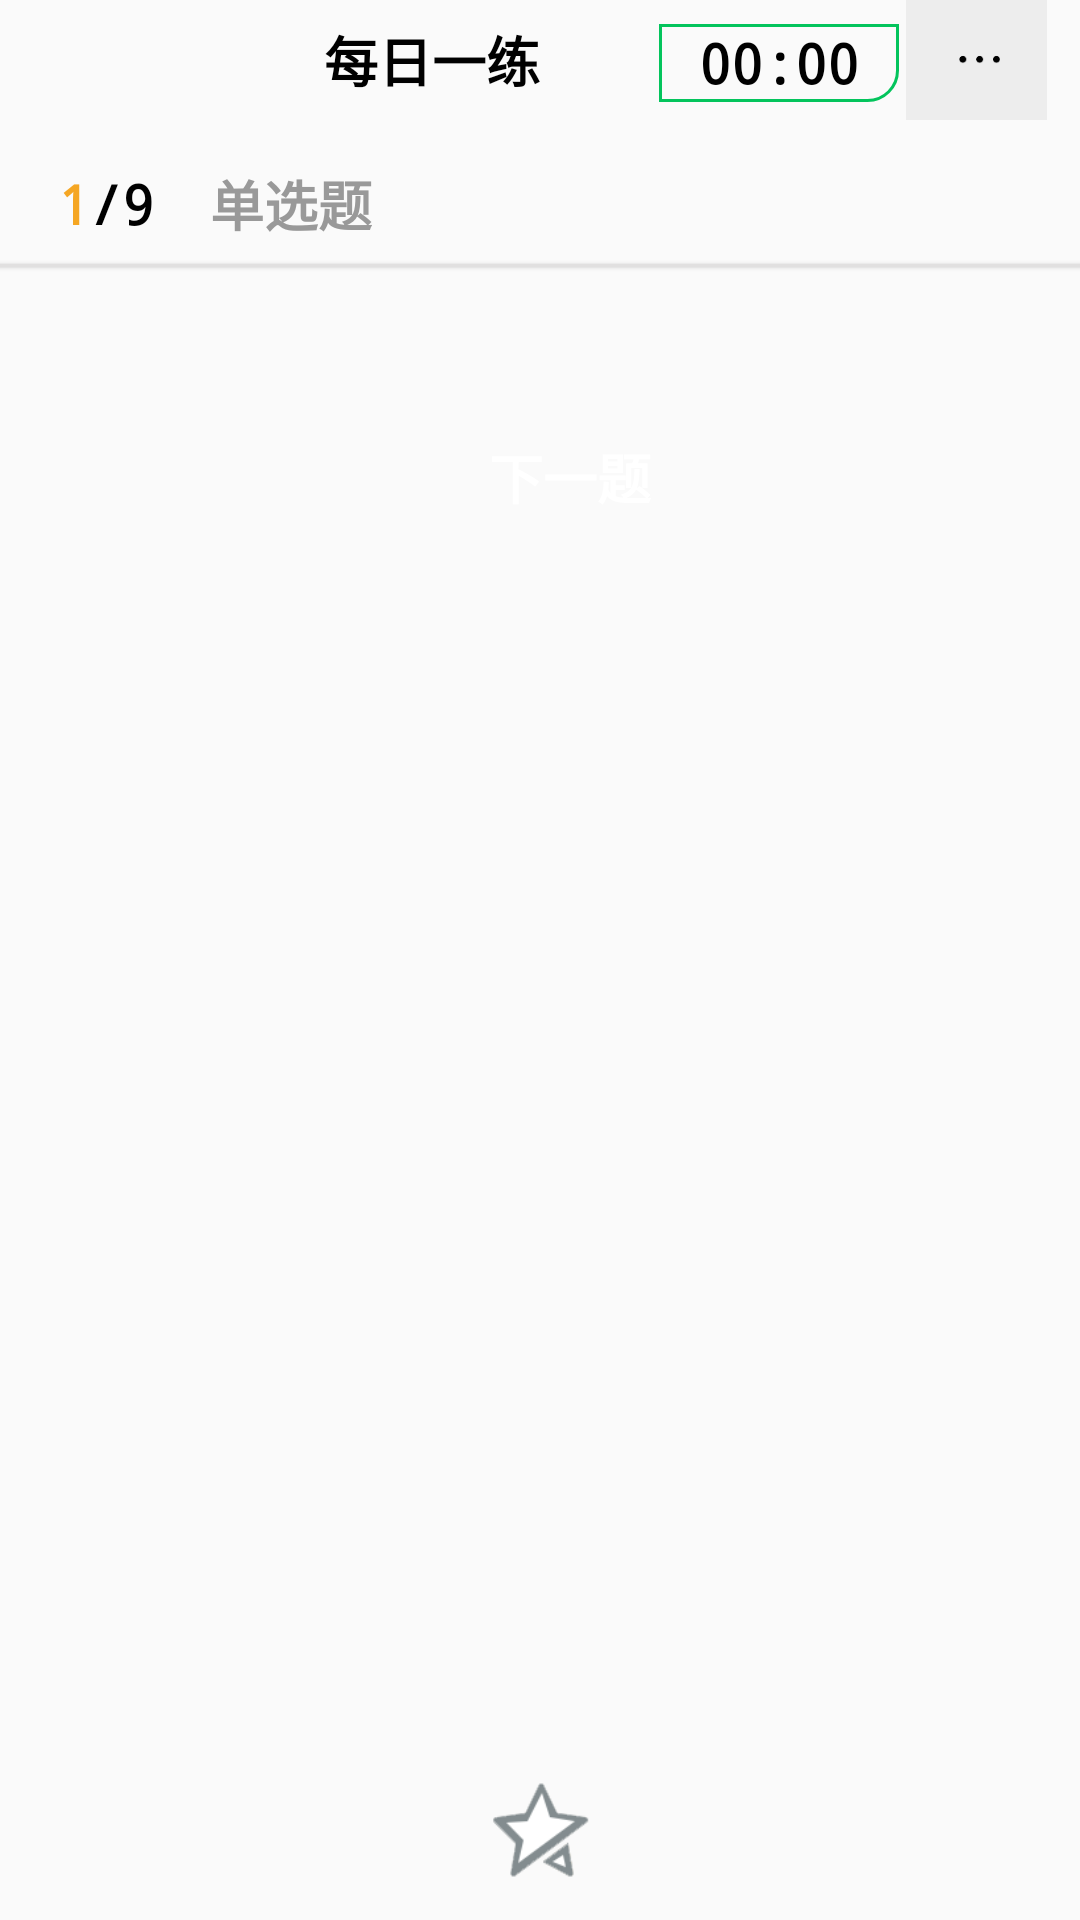

Screen size 1080w x 1920h. Icon name, then its box in pixels as box=[x1, y1, x2, y2]:
menu: box=[959, 56, 1000, 63]
